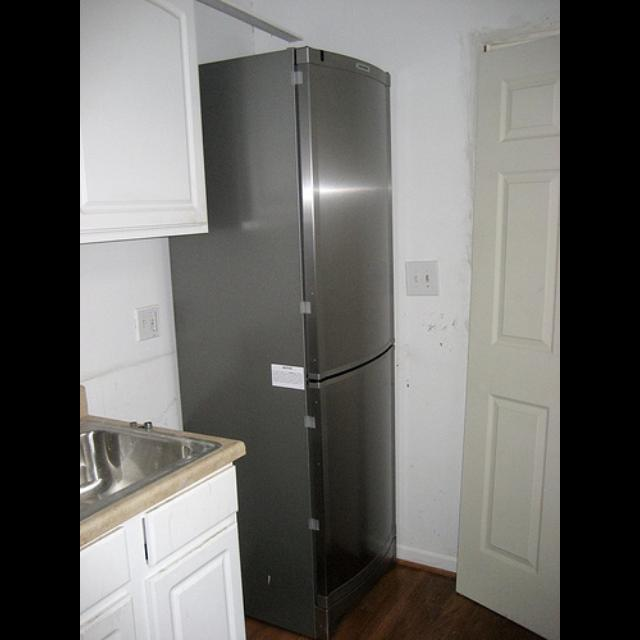Refrigerator: (166, 47, 399, 633)
